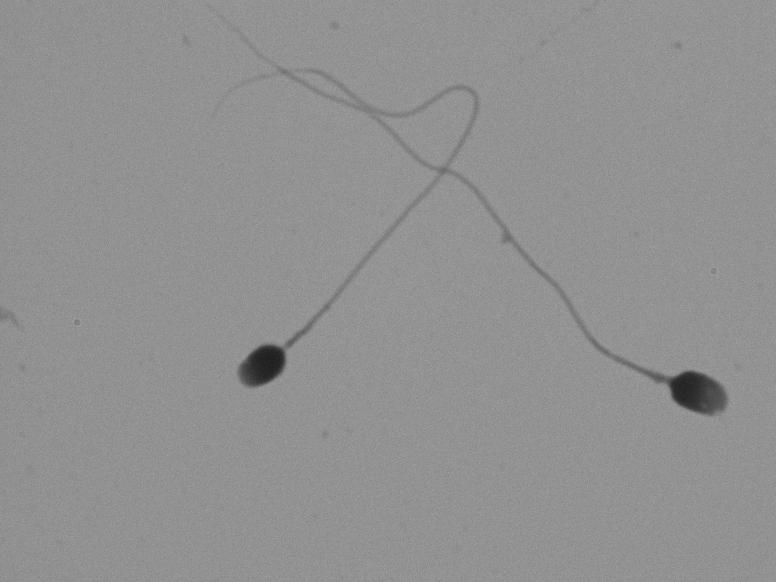Abnormal: (501, 175, 745, 438)
Normal: (169, 46, 491, 402)
